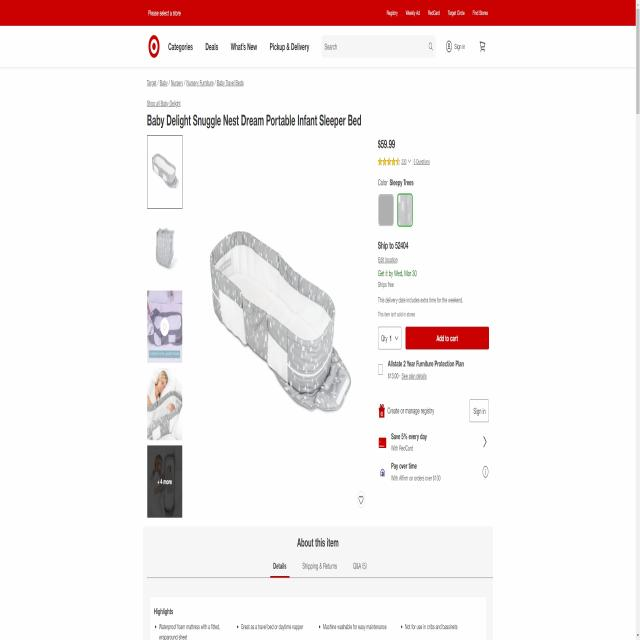menu-bar: (442, 34, 493, 60)
search: (320, 32, 438, 62)
side-panel: (374, 131, 492, 506)
tab-bar: (146, 31, 312, 63), (266, 555, 378, 581)
